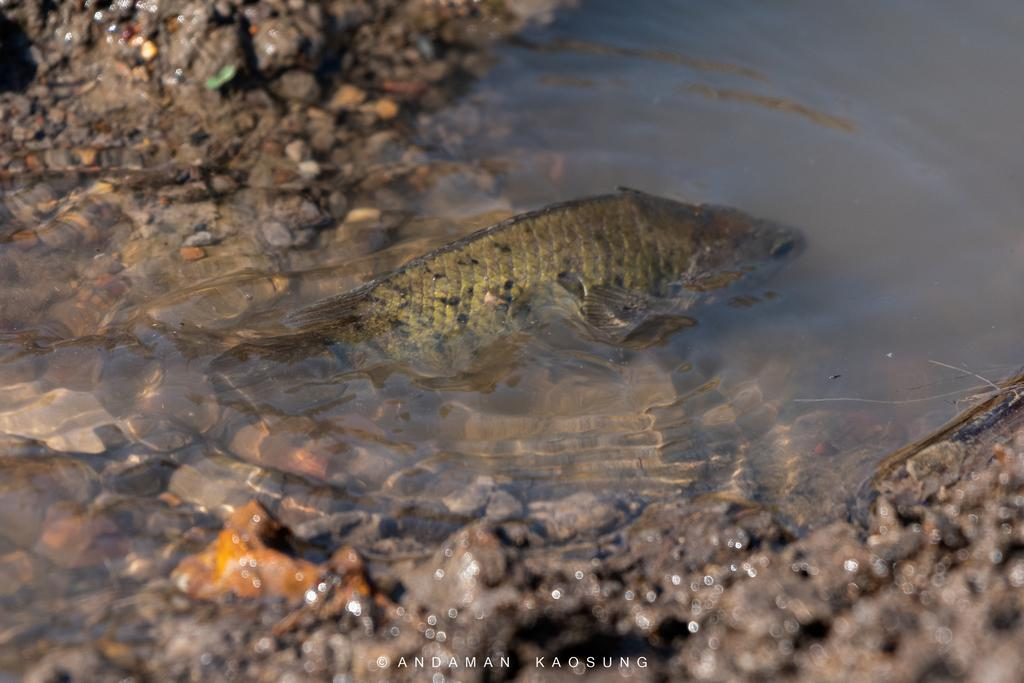Climbing Perch: (164, 183, 812, 430)
